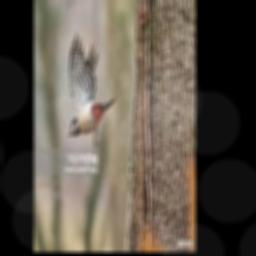Woodpecker: (68, 31, 116, 146)
